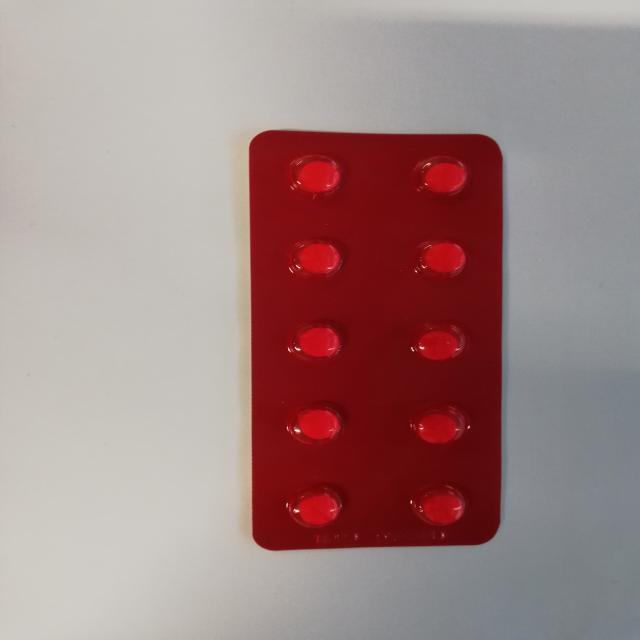Pill: (413, 148, 480, 202), (402, 321, 472, 369), (409, 231, 478, 279), (283, 318, 352, 365), (283, 400, 352, 447), (283, 150, 350, 197), (413, 488, 476, 534), (282, 233, 344, 278), (408, 406, 470, 450), (287, 489, 348, 532)
